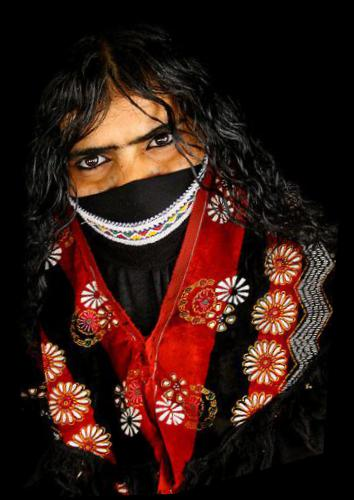WRONG: (47, 90, 244, 279)
